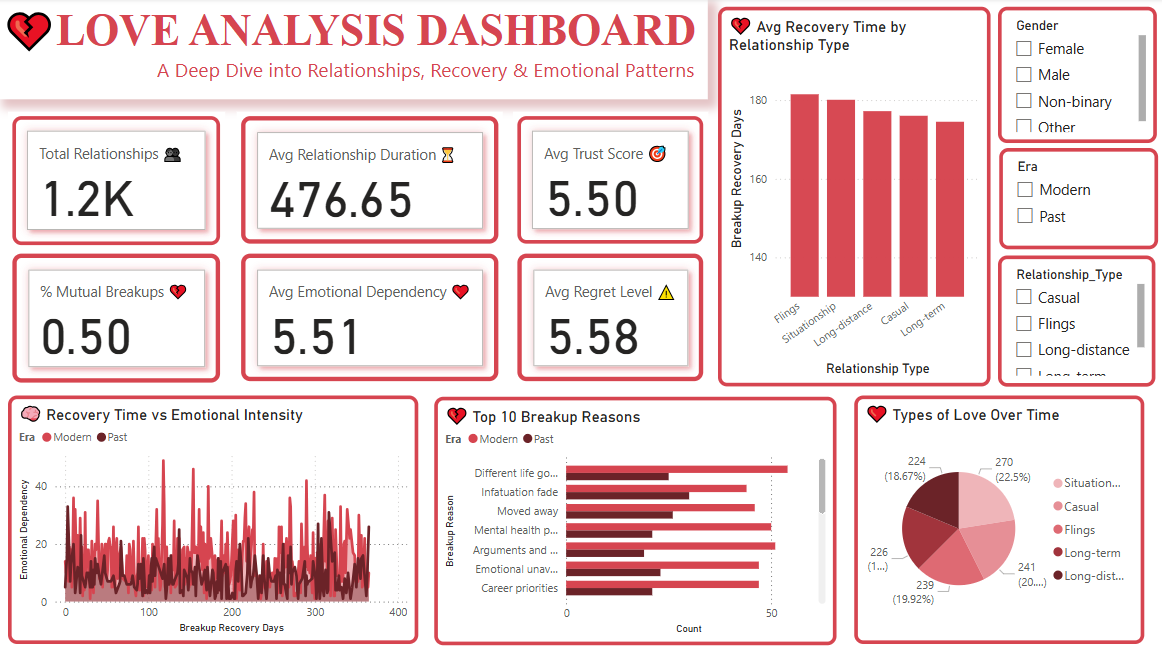

The page's visual inventory and layout, read from the dashboard file:
{"tool":"powerbi","page":{"name":"Page 1","canvas":[1280,720],"ordinal":0},"visuals":[{"type":"textbox","box":[0,0,779.4,111.1],"z":0},{"type":"cardVisual","fields":{"Data":["Avg(Love_Analysis_Large_Dataset.Trust_Score)"]},"box":[565.4,124.9,214.1,150.9],"z":1000},{"type":"cardVisual","fields":{"Data":["CountNonNull(Love_Analysis_Large_Dataset.Person_ID)"]},"box":[11.4,124.3,238.6,151.4],"z":2000},{"type":"cardVisual","fields":{"Data":["Avg(Love_Analysis_Large_Dataset.Emotional_Dependency_Score)"]},"box":[262.1,275.8,292.3,150.9],"z":3000},{"type":"cardVisual","fields":{"Data":["Avg(Love_Analysis_Large_Dataset.Relationship_Duration_Days)"]},"box":[262.1,124.9,292.3,150.9],"z":4000},{"type":"cardVisual","fields":{"Data":["Avg(Love_Analysis_Large_Dataset.Regret_Level)"]},"box":[565.4,275.8,214.1,150.9],"z":5000},{"type":"cardVisual","fields":{"Data":["Sum(Love_Analysis_Large_Dataset.Percentage_Mutual_Breakups)"]},"box":[11.4,275.7,238.6,151.4],"z":6000},{"type":"pieChart","title":"❤️ Types of Love Over Time","fields":{"Category":["Love_Analysis_Large_Dataset.Relationship_Type"],"Y":["CountNonNull(Love_Analysis_Large_Dataset.Relationship_Type)"]},"box":[940,436.4,318.4,273.1],"z":7000},{"type":"lineChart","title":"🧠 Recovery Time vs Emotional Intensity","fields":{"Category":["Love_Analysis_Large_Dataset.Breakup_Recovery_Days"],"Y":["Sum(Love_Analysis_Large_Dataset.Emotional_Dependency_Score)"],"Series":["Love_Analysis_Large_Dataset.Era"]},"box":[11,436.4,450.1,273.1],"z":8000},{"type":"clusteredBarChart","title":"💔 Top 10 Breakup Reasons","fields":{"Category":["Love_Analysis_Large_Dataset.Breakup_Reason"],"Y":["CountNonNull(Love_Analysis_Large_Dataset.Breakup_Reason)"],"Series":["Love_Analysis_Large_Dataset.Era"]},"box":[478.9,437.7,441.9,273.1],"z":9000},{"type":"slicer","fields":{"Values":["Love_Analysis_Large_Dataset.Era"]},"box":[1099.1,164.7,174.3,111.1],"z":10000},{"type":"slicer","fields":{"Values":["Love_Analysis_Large_Dataset.Gender"]},"box":[1097.8,9.6,174.3,149.6],"z":11000},{"type":"columnChart","title":"💔 Avg Recovery Time by Relationship Type","fields":{"Category":["Love_Analysis_Large_Dataset.Relationship_Type"],"Y":["Avg(Love_Analysis_Large_Dataset.Breakup_Recovery_Days)"]},"box":[790.4,9.6,299.1,417.2],"z":13000},{"type":"slicer","fields":{"Values":["Love_Analysis_Large_Dataset.Relationship_Type"]},"box":[1097.8,282.7,172.9,144.1],"z":13001}]}

Visuals, with their boxes in screenshot pixels (x1, y1, x2, y2), scaled from the page's 1280x720 canvas onto the 1162x652 screenshot:
textbox: (0, 0, 708, 101)
cardVisual - Avg(Love_Analysis_Large_Dataset.Trust_Score): (513, 113, 708, 250)
cardVisual - CountNonNull(Love_Analysis_Large_Dataset.Person_ID): (10, 113, 227, 250)
cardVisual - Avg(Love_Analysis_Large_Dataset.Emotional_Dependency_Score): (238, 250, 503, 386)
cardVisual - Avg(Love_Analysis_Large_Dataset.Relationship_Duration_Days): (238, 113, 503, 250)
cardVisual - Avg(Love_Analysis_Large_Dataset.Regret_Level): (513, 250, 708, 386)
cardVisual - Sum(Love_Analysis_Large_Dataset.Percentage_Mutual_Breakups): (10, 250, 227, 387)
"❤️ Types of Love Over Time" pieChart: (853, 395, 1142, 642)
"🧠 Recovery Time vs Emotional Intensity" lineChart: (10, 395, 419, 642)
"💔 Top 10 Breakup Reasons" clusteredBarChart: (435, 396, 836, 644)
slicer - Love_Analysis_Large_Dataset.Era: (998, 149, 1156, 250)
slicer - Love_Analysis_Large_Dataset.Gender: (997, 9, 1155, 144)
"💔 Avg Recovery Time by Relationship Type" columnChart: (718, 9, 989, 386)
slicer - Love_Analysis_Large_Dataset.Relationship_Type: (997, 256, 1154, 386)
